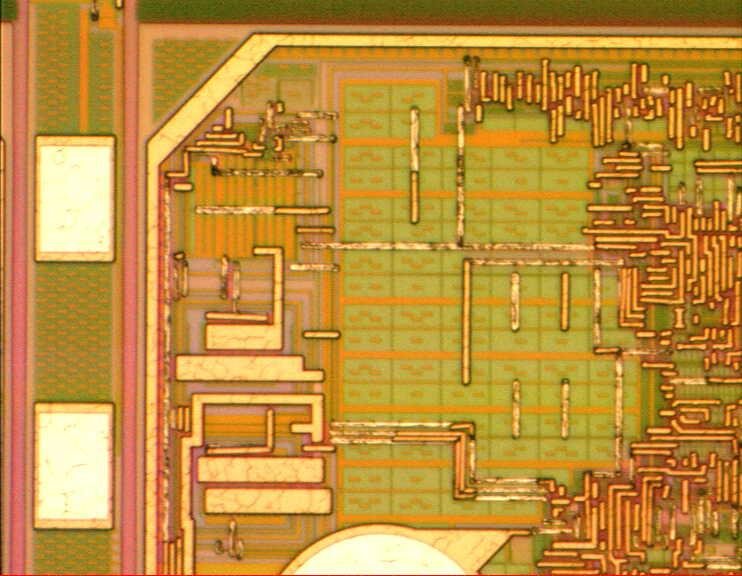COATING BAD: (156, 53, 742, 574)
